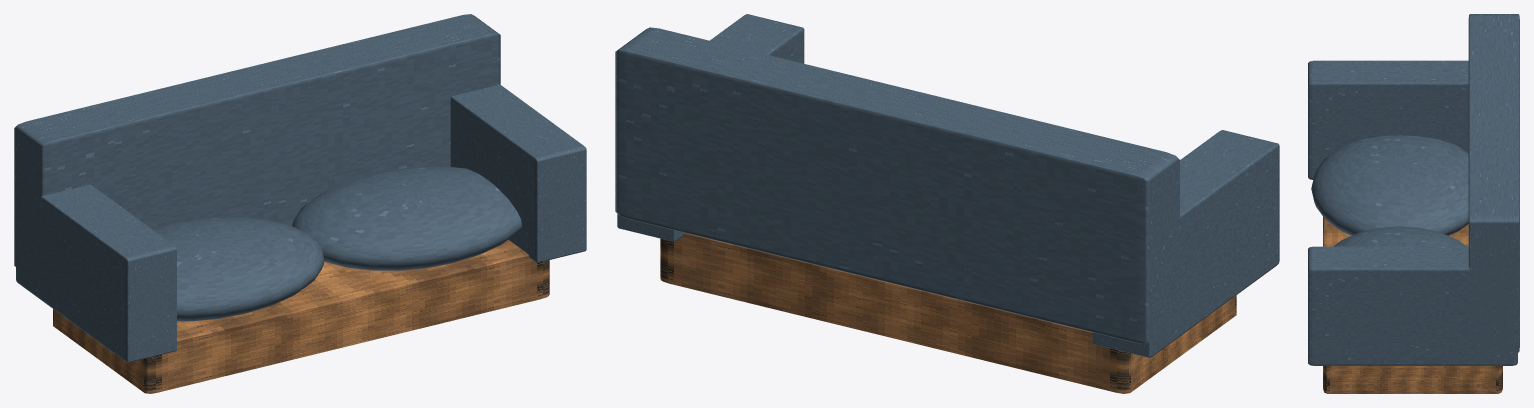
File: sofa.glb
3 views of the same model, side by side, from view 1: azimuth 30°, elevation 25°; view 2: azimuth 150°, elevation 25°; view 3: azimuth 270°, elevation 25° (orthographic). The views are drawn at different scales.
Visible parts, largest first — view 1: back, arm (×2), cushion (×2), plinth; view 2: back, plinth, arm (×2); view 3: arm (×2), back, cushion (×2), plinth.
Boxes of the visible parts, x1=… form: back: x1=14, y1=14, x2=500, y2=284; arm (×2): x1=16, y1=84, x2=586, y2=362; cushion (×2): x1=152, y1=166, x2=521, y2=321; plinth: x1=53, y1=240, x2=549, y2=393; back: x1=615, y1=27, x2=1179, y2=343; plinth: x1=660, y1=233, x2=1236, y2=393; arm (×2): x1=617, y1=14, x2=1279, y2=357; arm (×2): x1=1308, y1=60, x2=1517, y2=365; back: x1=1468, y1=14, x2=1519, y2=352; cushion (×2): x1=1311, y1=135, x2=1468, y2=246; plinth: x1=1323, y1=217, x2=1502, y2=393.
Bounding box in the file's own units: 2.03 × 0.85 × 0.8712.
2 materials, 2 textured.
